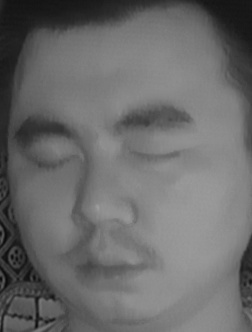blink: (130, 135, 186, 173), (26, 141, 80, 177)
mouth: (68, 236, 152, 299)
